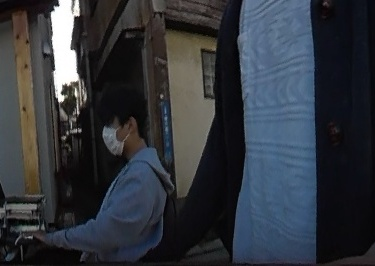person: (78, 85, 166, 266)
